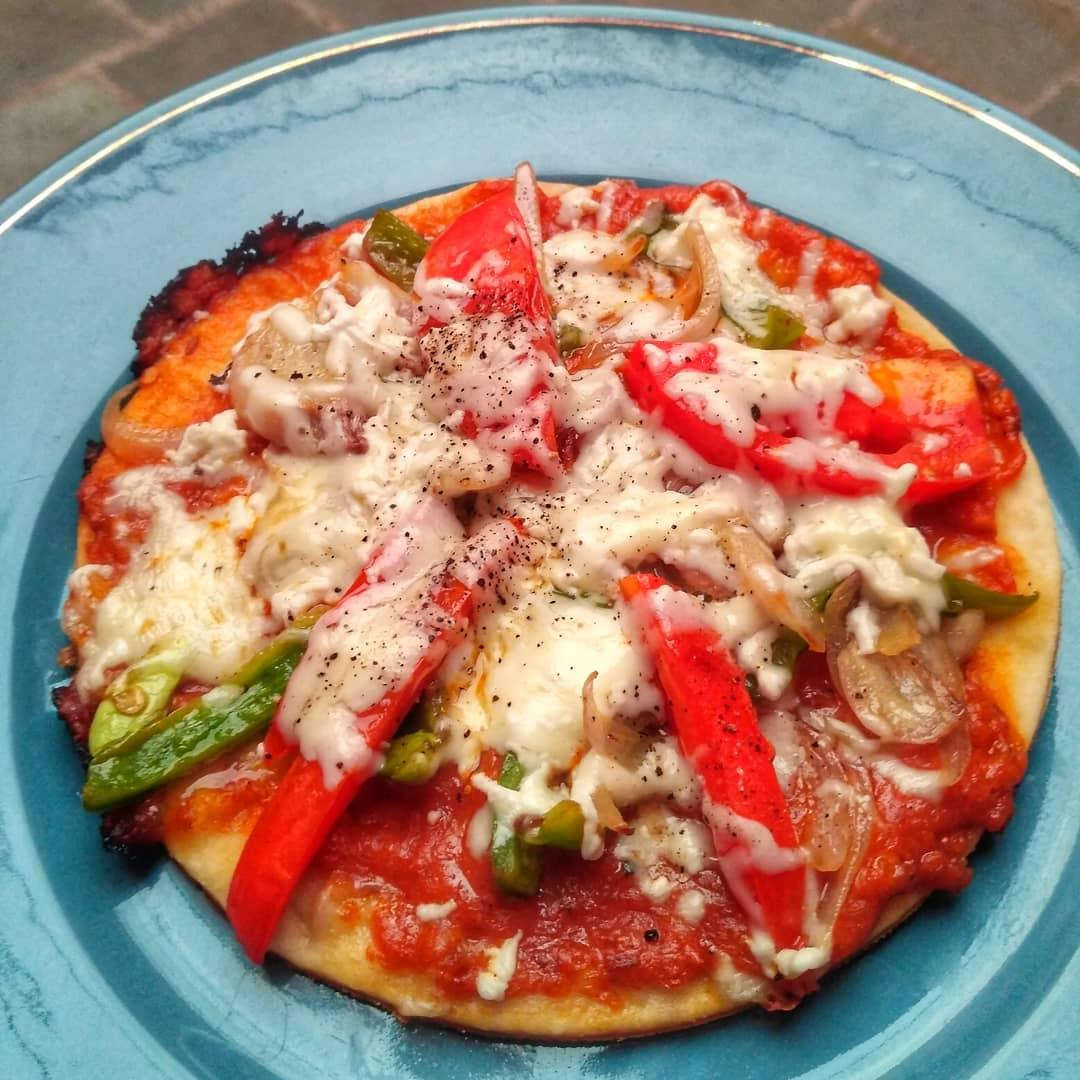Onion: (817, 562, 976, 779), (227, 281, 368, 457), (792, 710, 880, 958), (711, 520, 829, 655), (574, 666, 638, 849), (663, 212, 729, 351)
Peppers: (220, 511, 528, 977), (618, 566, 823, 980), (618, 331, 1029, 513), (76, 596, 345, 819), (410, 171, 566, 480), (379, 638, 498, 796), (479, 748, 597, 906), (84, 634, 199, 757), (926, 556, 1047, 625), (357, 202, 437, 294), (731, 303, 814, 355)
Pizza: (46, 155, 1071, 1065)
